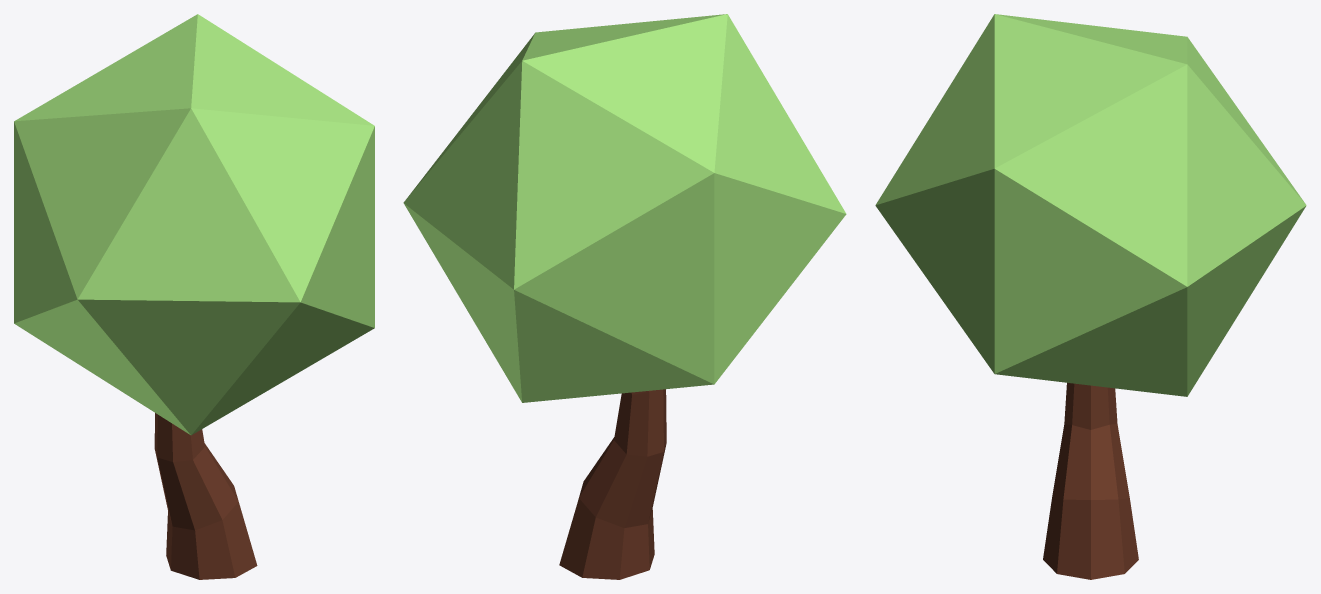
The model's file is bush_3.glb.
The picture shows the model from 3 angles, left to right: view 1: azimuth 30°, elevation 25°; view 2: azimuth 150°, elevation 25°; view 3: azimuth 270°, elevation 25°; orthographic projection. The views are drawn at different scales.
Parts seen in each view (by area): view 1: Icosphere; view 2: Icosphere; view 3: Icosphere.
Part boxes in pixels (x1,y1,x2,y2): Icosphere: [14, 14, 374, 579]; Icosphere: [403, 14, 846, 579]; Icosphere: [875, 14, 1306, 579].
Bounding box in the file's own units: 0.8197 × 1.2 × 0.9164.
